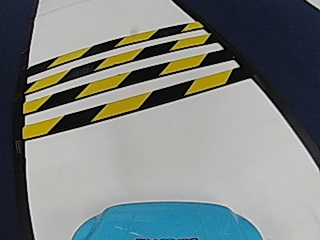bump: (29, 21, 210, 140)
